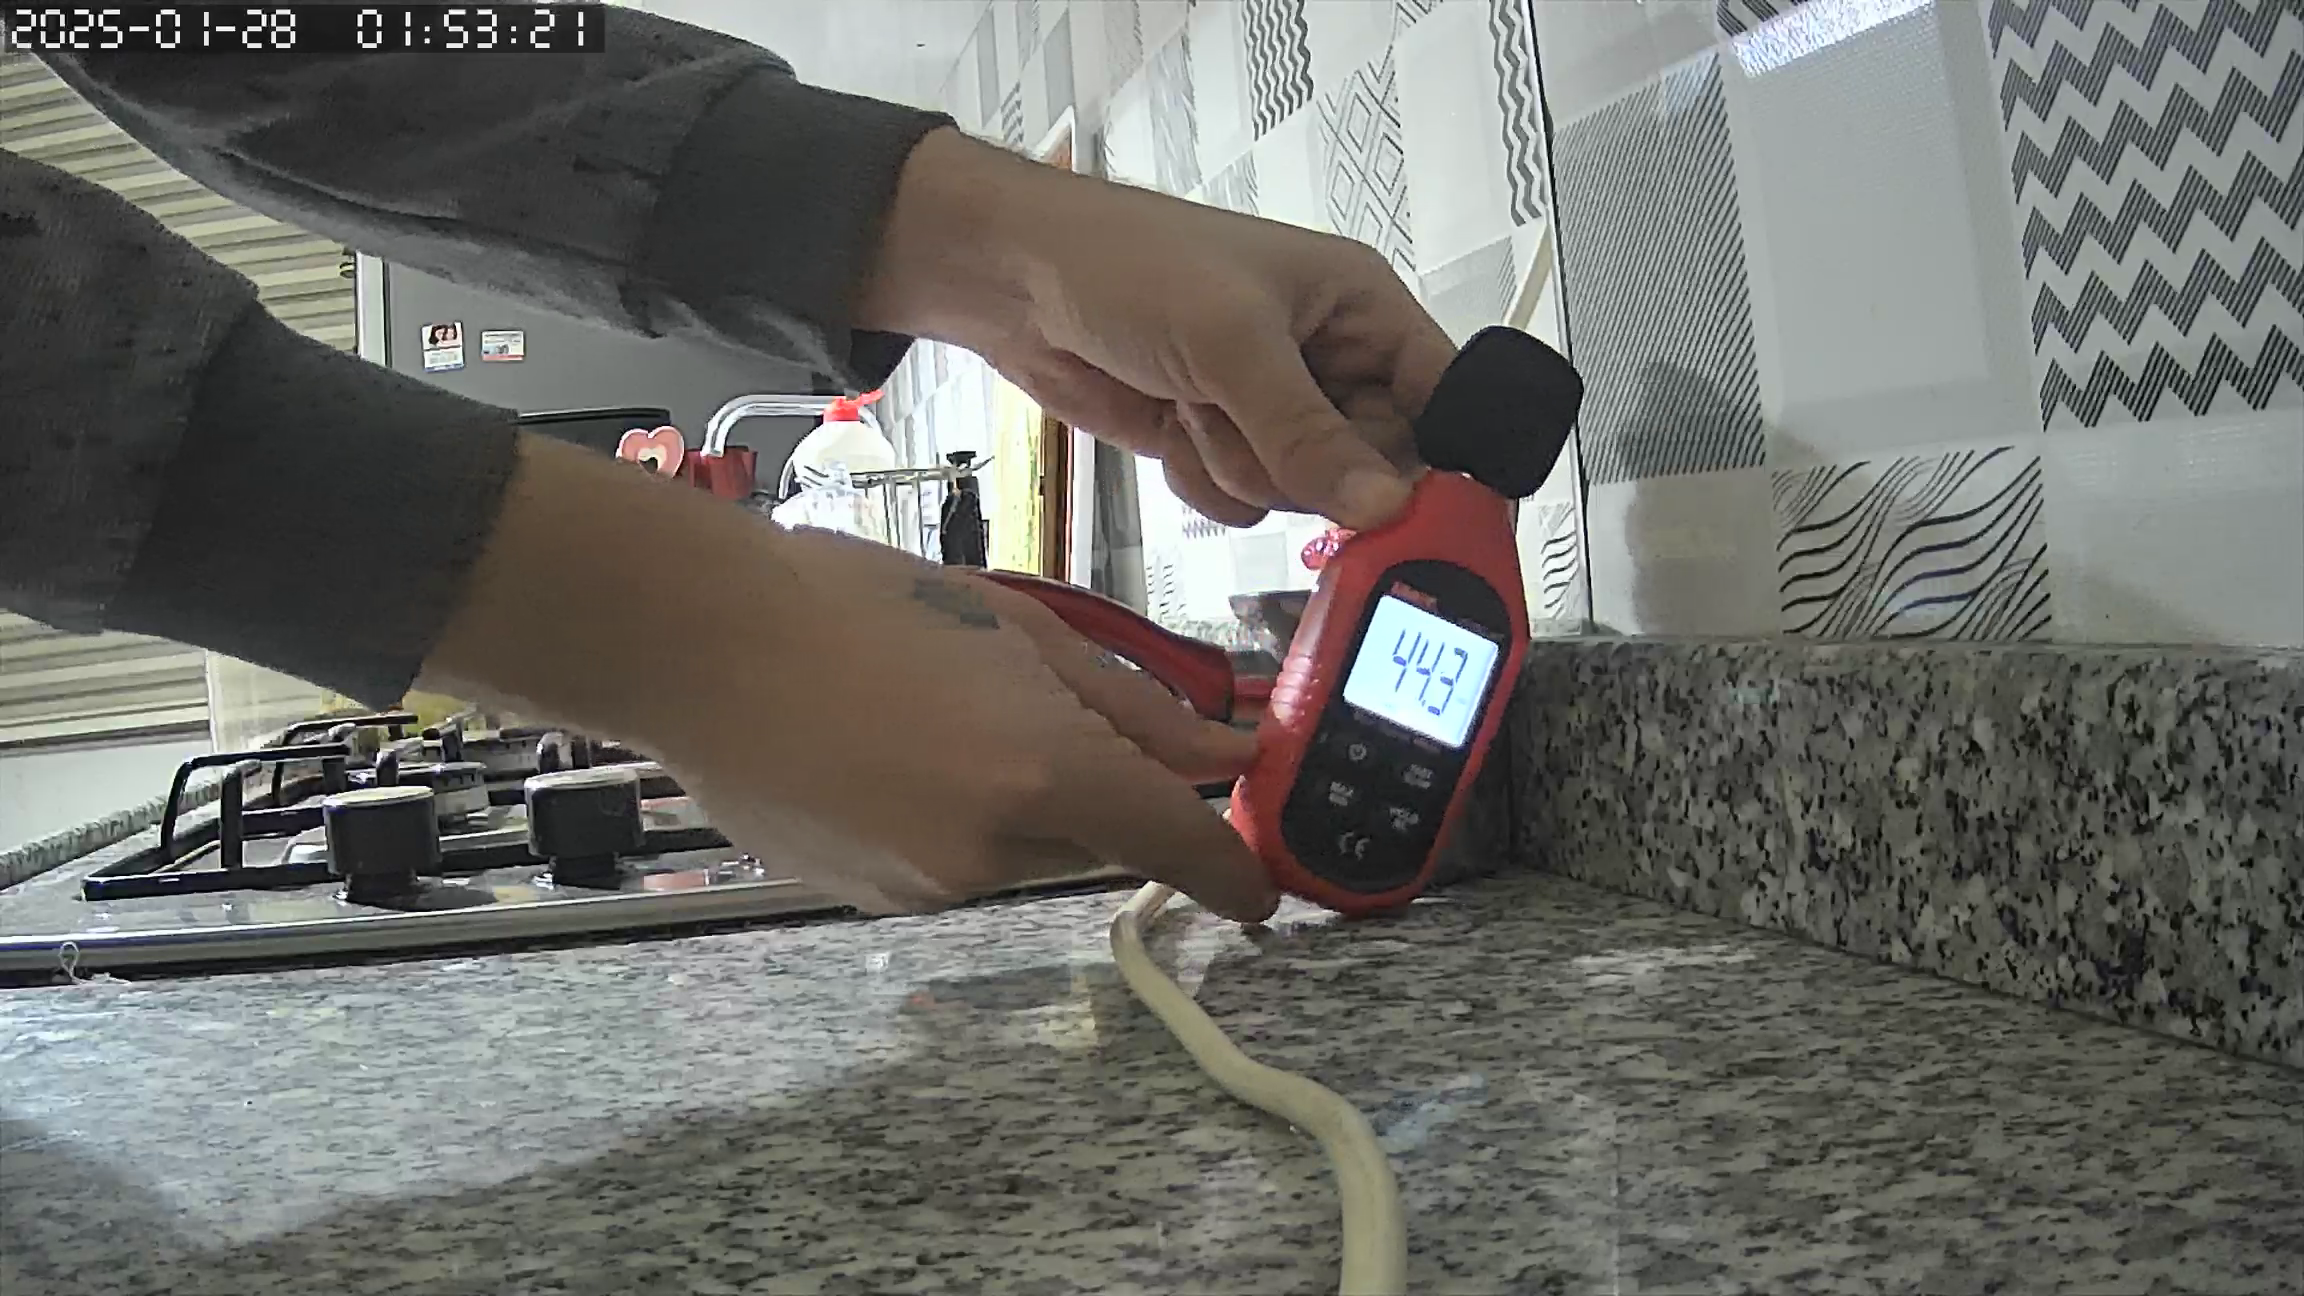screen: (1340, 593, 1499, 748)
